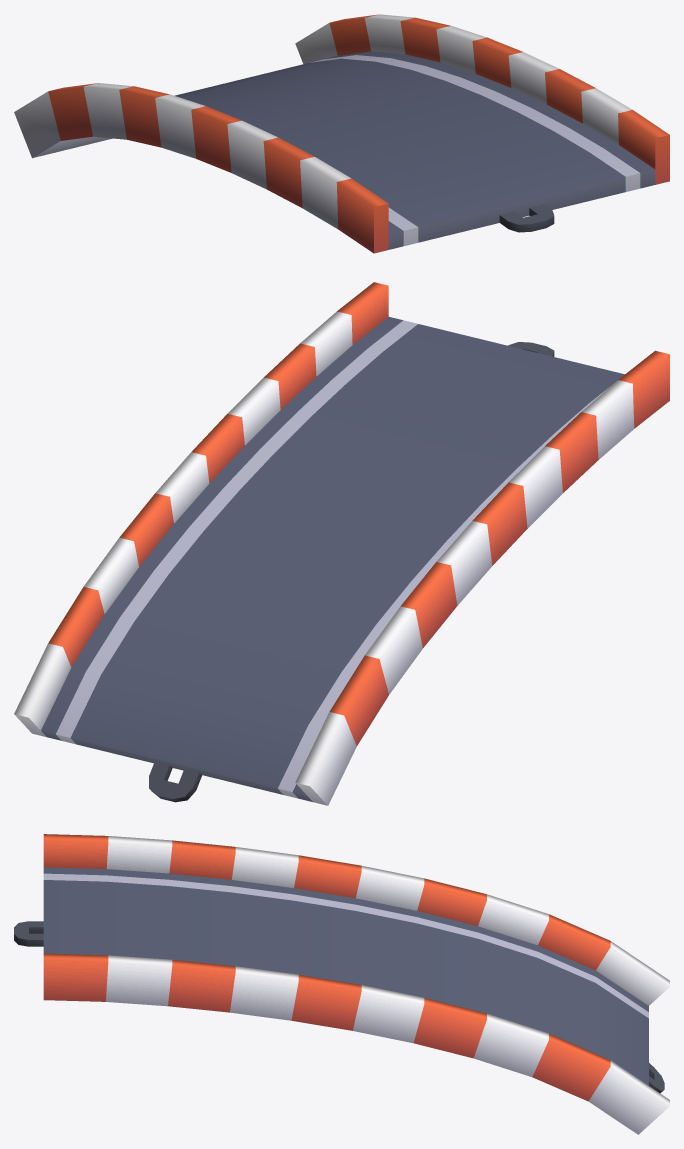
The model's file is track-road-wide-straight-hill-end.glb.
3 renders of one model, top to bottom at view 1: azimuth 30°, elevation 25°; view 2: azimuth 150°, elevation 25°; view 3: azimuth 270°, elevation 25°, orthographic. The views are drawn at different scales.
Parts seen in each view (by area): view 1: track-road-wide-straight-hill-end; view 2: track-road-wide-straight-hill-end; view 3: track-road-wide-straight-hill-end.
Boxes of the visible parts, left/top/right/bottom form: track-road-wide-straight-hill-end: left=14, top=14, right=669, bottom=253; track-road-wide-straight-hill-end: left=14, top=282, right=669, bottom=805; track-road-wide-straight-hill-end: left=14, top=834, right=669, bottom=1134.
Size of the model in its own units: 2 by 1.44 by 4.41.
Materials: 1 (1 with a texture image).
